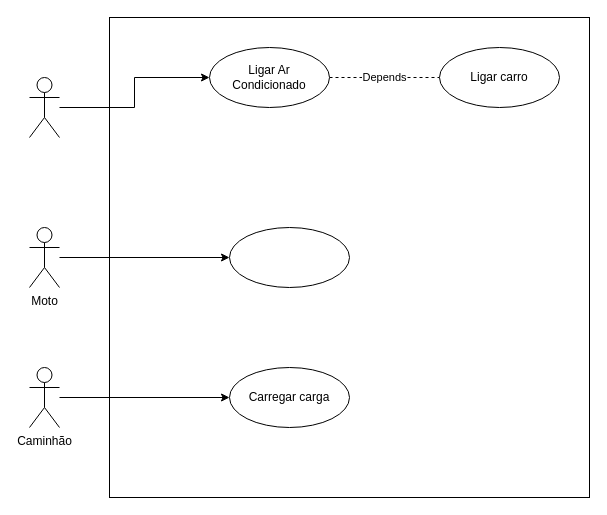
The diagram is 607 pixels wide and 515 high, and some of its shapes have lost their labels. Here are the shapes that lost their labels. From the top down, the centre of each, then its label:
At (44,107): "Carro".
At (289,257): "Empinar".
